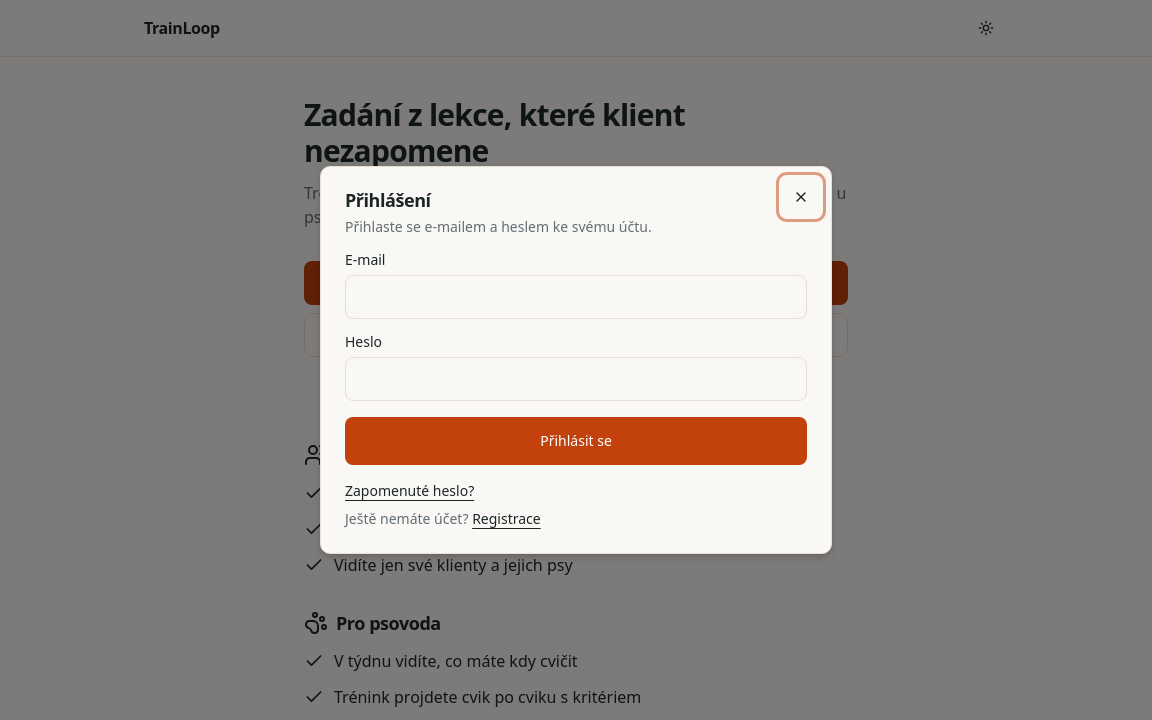
Test: login and logout › cancels pre-login session requests so a late response cannot restore another account
The width and height of the screenshot is (1152, 720).
Expected: the dialog is shown, [320, 166, 832, 554]
In the field labelled "E-mail": (576, 297) [345, 275, 807, 319], type "jana@example.com"
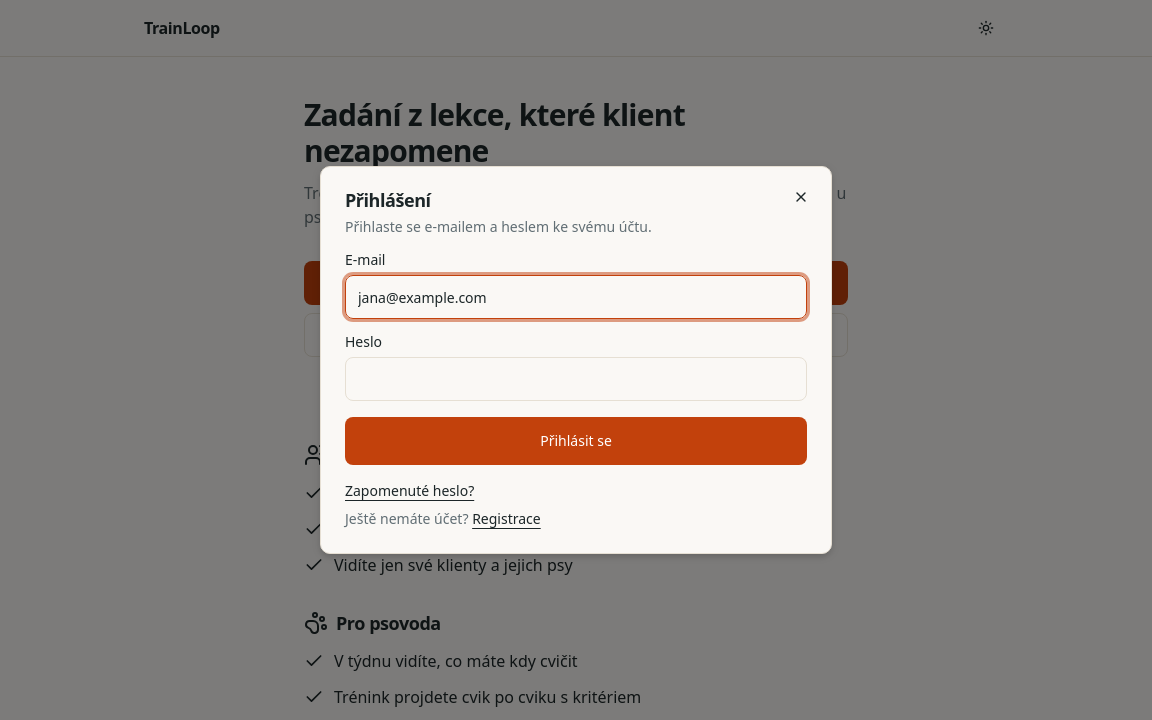
In the password field labelled "Heslo": (576, 379) [345, 357, 807, 401], type "password123"
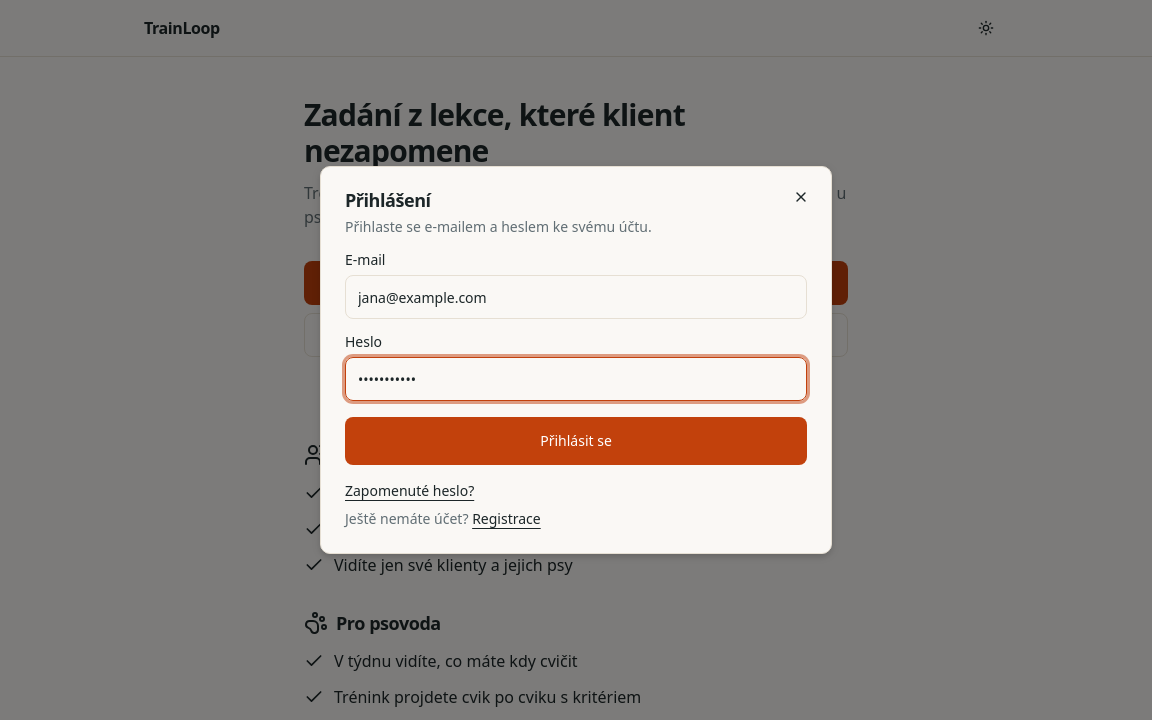
Click the button "Přihlásit se": (576, 441) [345, 417, 807, 465]
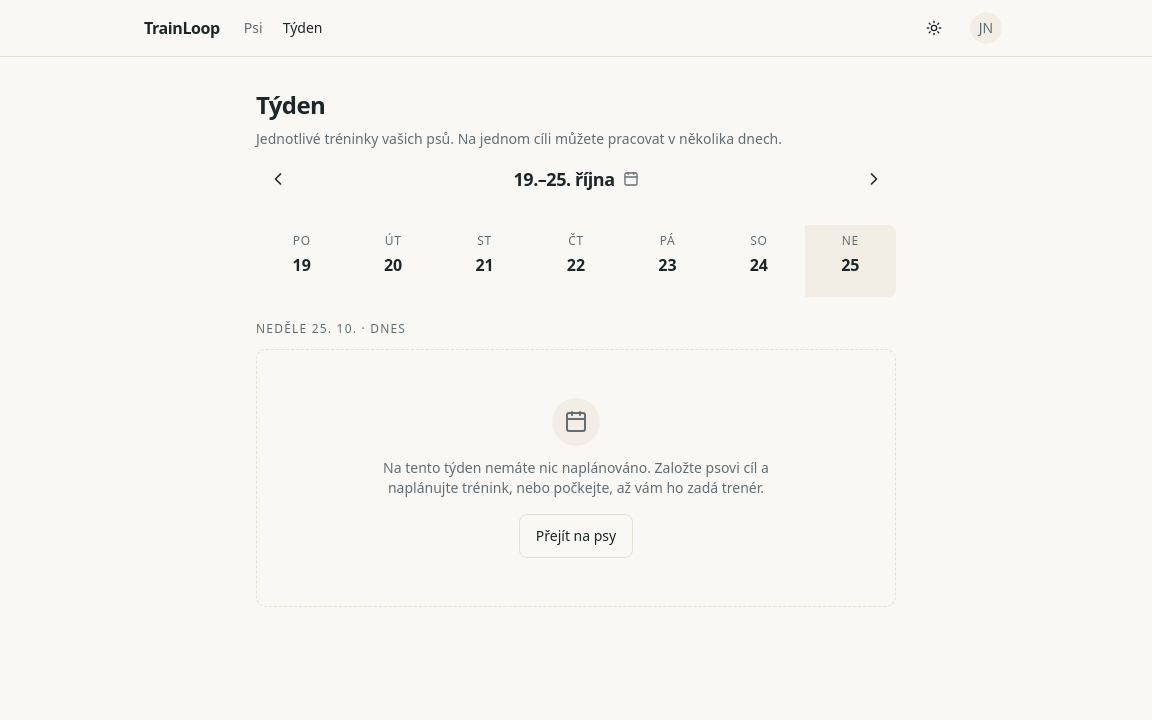
Result: the heading "Týden" is shown at [256, 88, 325, 121]
